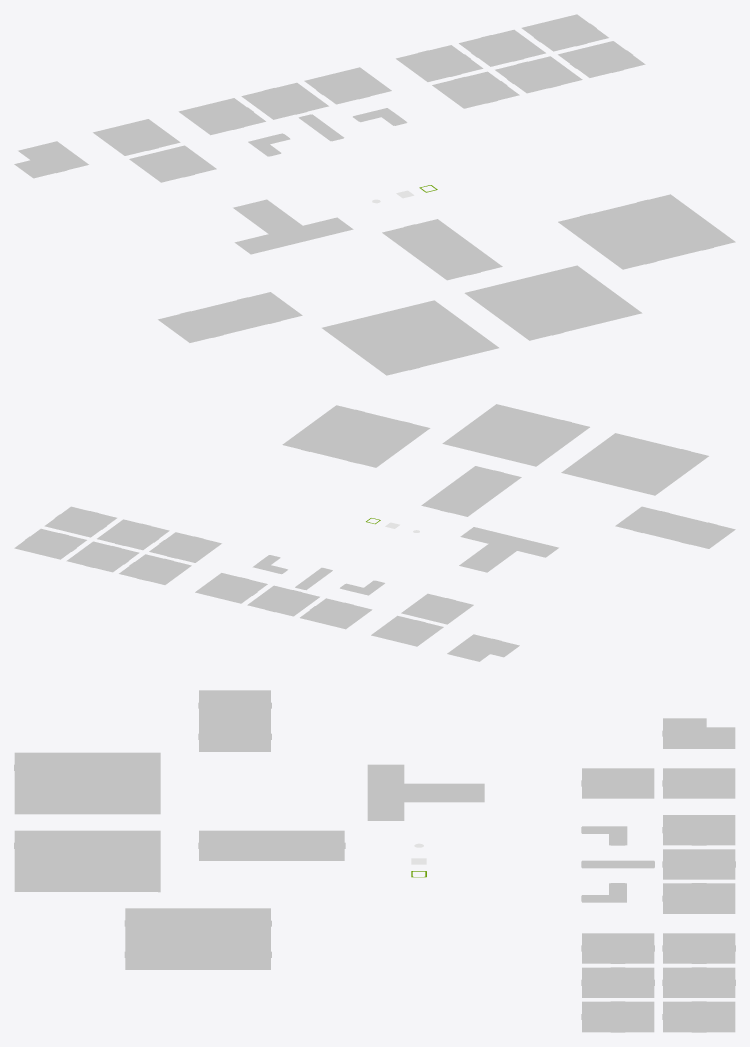
The model's file is MiniMaps.fbx.
3 renders of one model, top to bottom at view 1: azimuth 30°, elevation 25°; view 2: azimuth 150°, elevation 25°; view 3: azimuth 270°, elevation 25°, orthographic. The views are drawn at different scales.
Visible parts, largest first — view 1: Room_CustomTypeB_01, Room_CustomTypeC_01, Room_CustomTypeC_02, Room_CustomTypeD_01, Room_CustomTypeA_01, Entrance, Room_3Exit_TypeA_02, Room_3Exit_TypeB_01, Room_3Exit_TypeC_01, Room_3Exit_TypeC_02, Room_2Exit_TypeB_01, Room_3Exit_TypeB_02 (+6 smaller); view 2: Room_CustomTypeB_01, Room_CustomTypeC_02, Room_CustomTypeC_01, Room_CustomTypeD_01, Room_CustomTypeA_01, Entrance, Room_3Exit_TypeA_02, Room_3Exit_TypeB_01, Room_3Exit_TypeC_01, Room_3Exit_TypeC_02, Room_3Exit_TypeB_02, Room_3Exit_TypeA_01 (+6 smaller); view 3: Room_CustomTypeC_02, Room_CustomTypeC_01, Room_CustomTypeB_01, Room_CustomTypeA_01, Room_CustomTypeD_01, Entrance, Room_3Exit_TypeC_01, Room_3Exit_TypeC_02, Room_1Exit_TypeA_01, Room_1Exit_TypeA_02, Room_2Exit_TypeB_01, Room_2Exit_TypeC_01 (+9 smaller).
Boxes of the visible parts, x1,y1,x2,y2 form: Room_CustomTypeB_01: (558,194,735,269); Room_CustomTypeC_01: (464,265,642,340); Room_CustomTypeC_02: (322,300,498,375); Room_CustomTypeD_01: (158,292,302,342); Room_CustomTypeA_01: (382,219,502,280); Entrance: (233,199,353,254); Room_3Exit_TypeA_02: (432,71,519,108); Room_3Exit_TypeB_01: (459,29,545,66); Room_3Exit_TypeC_01: (521,14,608,51); Room_3Exit_TypeC_02: (558,41,645,77); Room_2Exit_TypeB_01: (241,82,328,119); Room_3Exit_TypeB_02: (495,56,582,93); Room_CustomTypeB_01: (282,405,430,467); Room_CustomTypeC_02: (561,433,708,495); Room_CustomTypeC_01: (442,404,589,466); Room_CustomTypeD_01: (615,506,735,548); Room_CustomTypeA_01: (421,466,521,516); Entrance: (459,527,558,572); Room_3Exit_TypeA_02: (149,532,221,562); Room_3Exit_TypeB_01: (66,541,139,572); Room_3Exit_TypeC_01: (14,528,86,559); Room_3Exit_TypeC_02: (44,506,116,537); Room_3Exit_TypeB_02: (97,519,169,550); Room_3Exit_TypeA_01: (119,554,191,584); Room_CustomTypeC_02: (14,752,160,814); Room_CustomTypeC_01: (14,830,160,892); Room_CustomTypeB_01: (124,908,271,969); Room_CustomTypeA_01: (198,830,345,860); Room_CustomTypeD_01: (198,690,271,751); Entrance: (367,764,484,820); Room_3Exit_TypeC_01: (662,1001,735,1032); Room_3Exit_TypeC_02: (581,1001,654,1032); Room_1Exit_TypeA_01: (662,768,735,798); Room_1Exit_TypeA_02: (581,768,654,798); Room_2Exit_TypeB_01: (662,849,735,879); Room_2Exit_TypeC_01: (662,883,735,913).
Bounding box in the file's own units: 110 × 4.13 × 98.
Materials: 2 (1 with a texture image).
